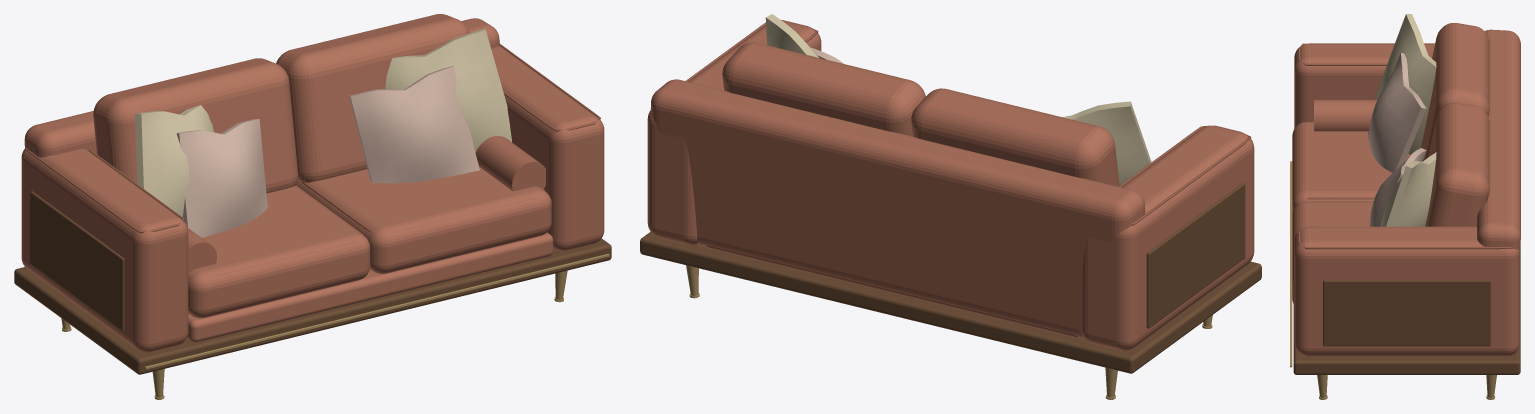
The model's file is milano-clay-2.glb.
3 renders of one model, left to right at view 1: azimuth 30°, elevation 25°; view 2: azimuth 150°, elevation 25°; view 3: azimuth 270°, elevation 25°, orthographic. The views are drawn at different scales.
Bounding box in the file's own units: 1.7 × 0.8344 × 0.7932.
